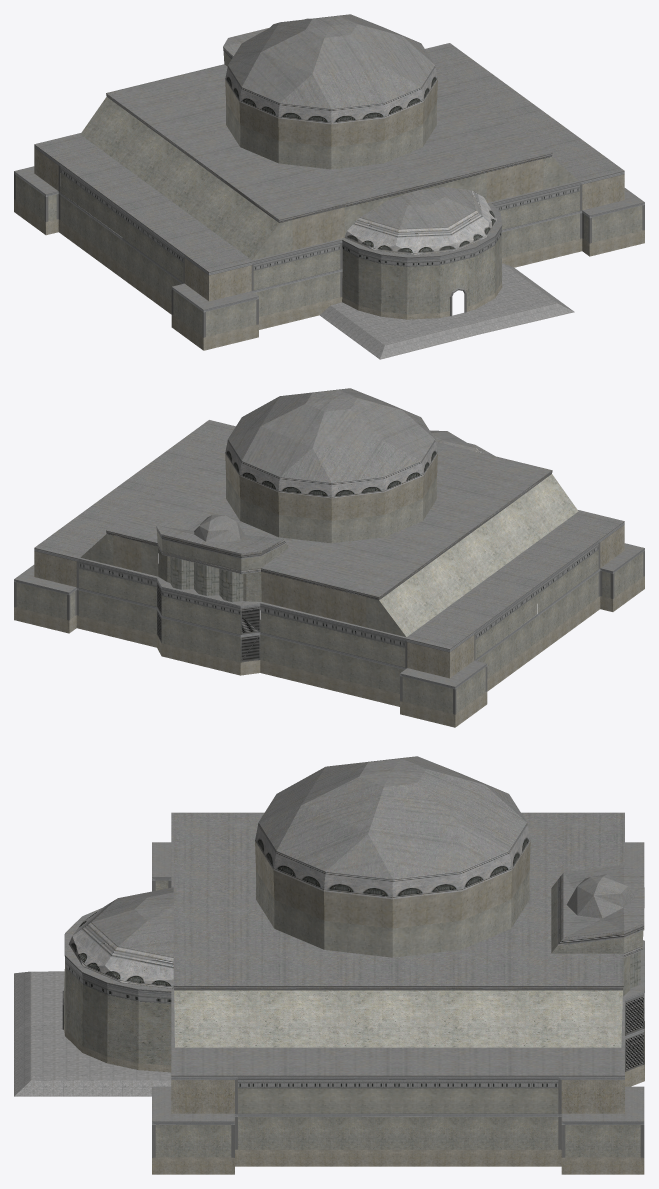
Rendered from mun_all_hotel_s01_r0_hotel_mesh_exterior_l1.fbx.
3 views of the same model, one above another, from view 1: azimuth 30°, elevation 25°; view 2: azimuth 150°, elevation 25°; view 3: azimuth 270°, elevation 25° (orthographic). The views are drawn at different scales.
Parts seen in each view (by area): view 1: mesh_node; view 2: mesh_node; view 3: mesh_node.
Boxes of the visible parts, <box> form: mesh_node: <box>14,14,644,359</box>; mesh_node: <box>14,388,644,727</box>; mesh_node: <box>14,756,644,1174</box>.
Bounding box in the file's own units: 59.56 × 26.29 × 56.85.
